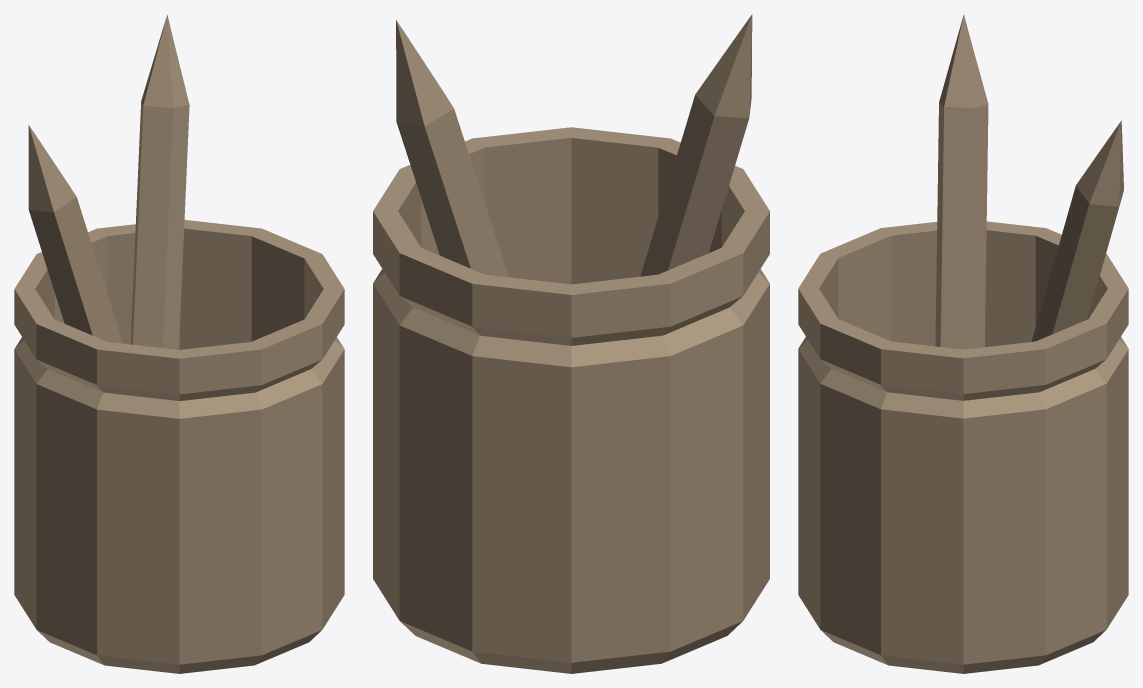
The model's file is 09_pencil_box.glb.
3 views of the same model, side by side, from view 1: azimuth 30°, elevation 25°; view 2: azimuth 150°, elevation 25°; view 3: azimuth 270°, elevation 25° (orthographic). The views are drawn at different scales.
Parts seen in each view (by area): view 1: pencilbox; view 2: pencilbox; view 3: pencilbox.
Part boxes in pixels (x1,y1,x2,y2): pencilbox: (14,14,344,673); pencilbox: (373,14,769,673); pencilbox: (798,14,1128,673).
Size of the model in its own units: 0.1197 by 0.2035 by 0.1166.
